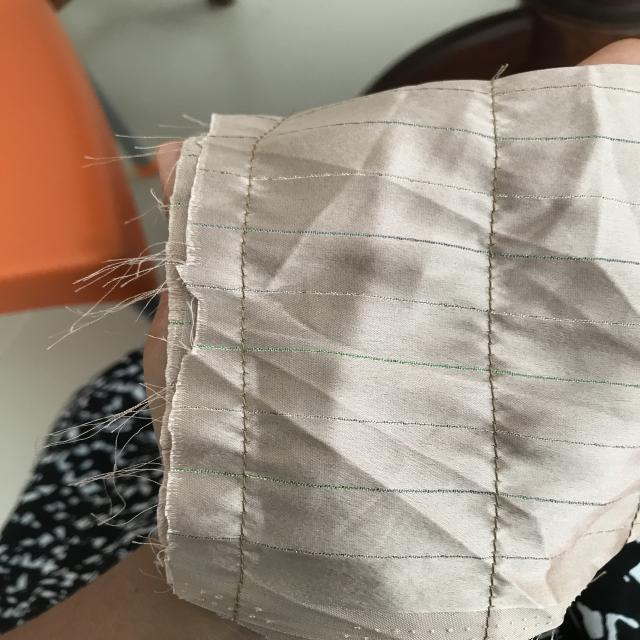good: (474, 198, 508, 252), (228, 487, 261, 530), (486, 500, 515, 548)
